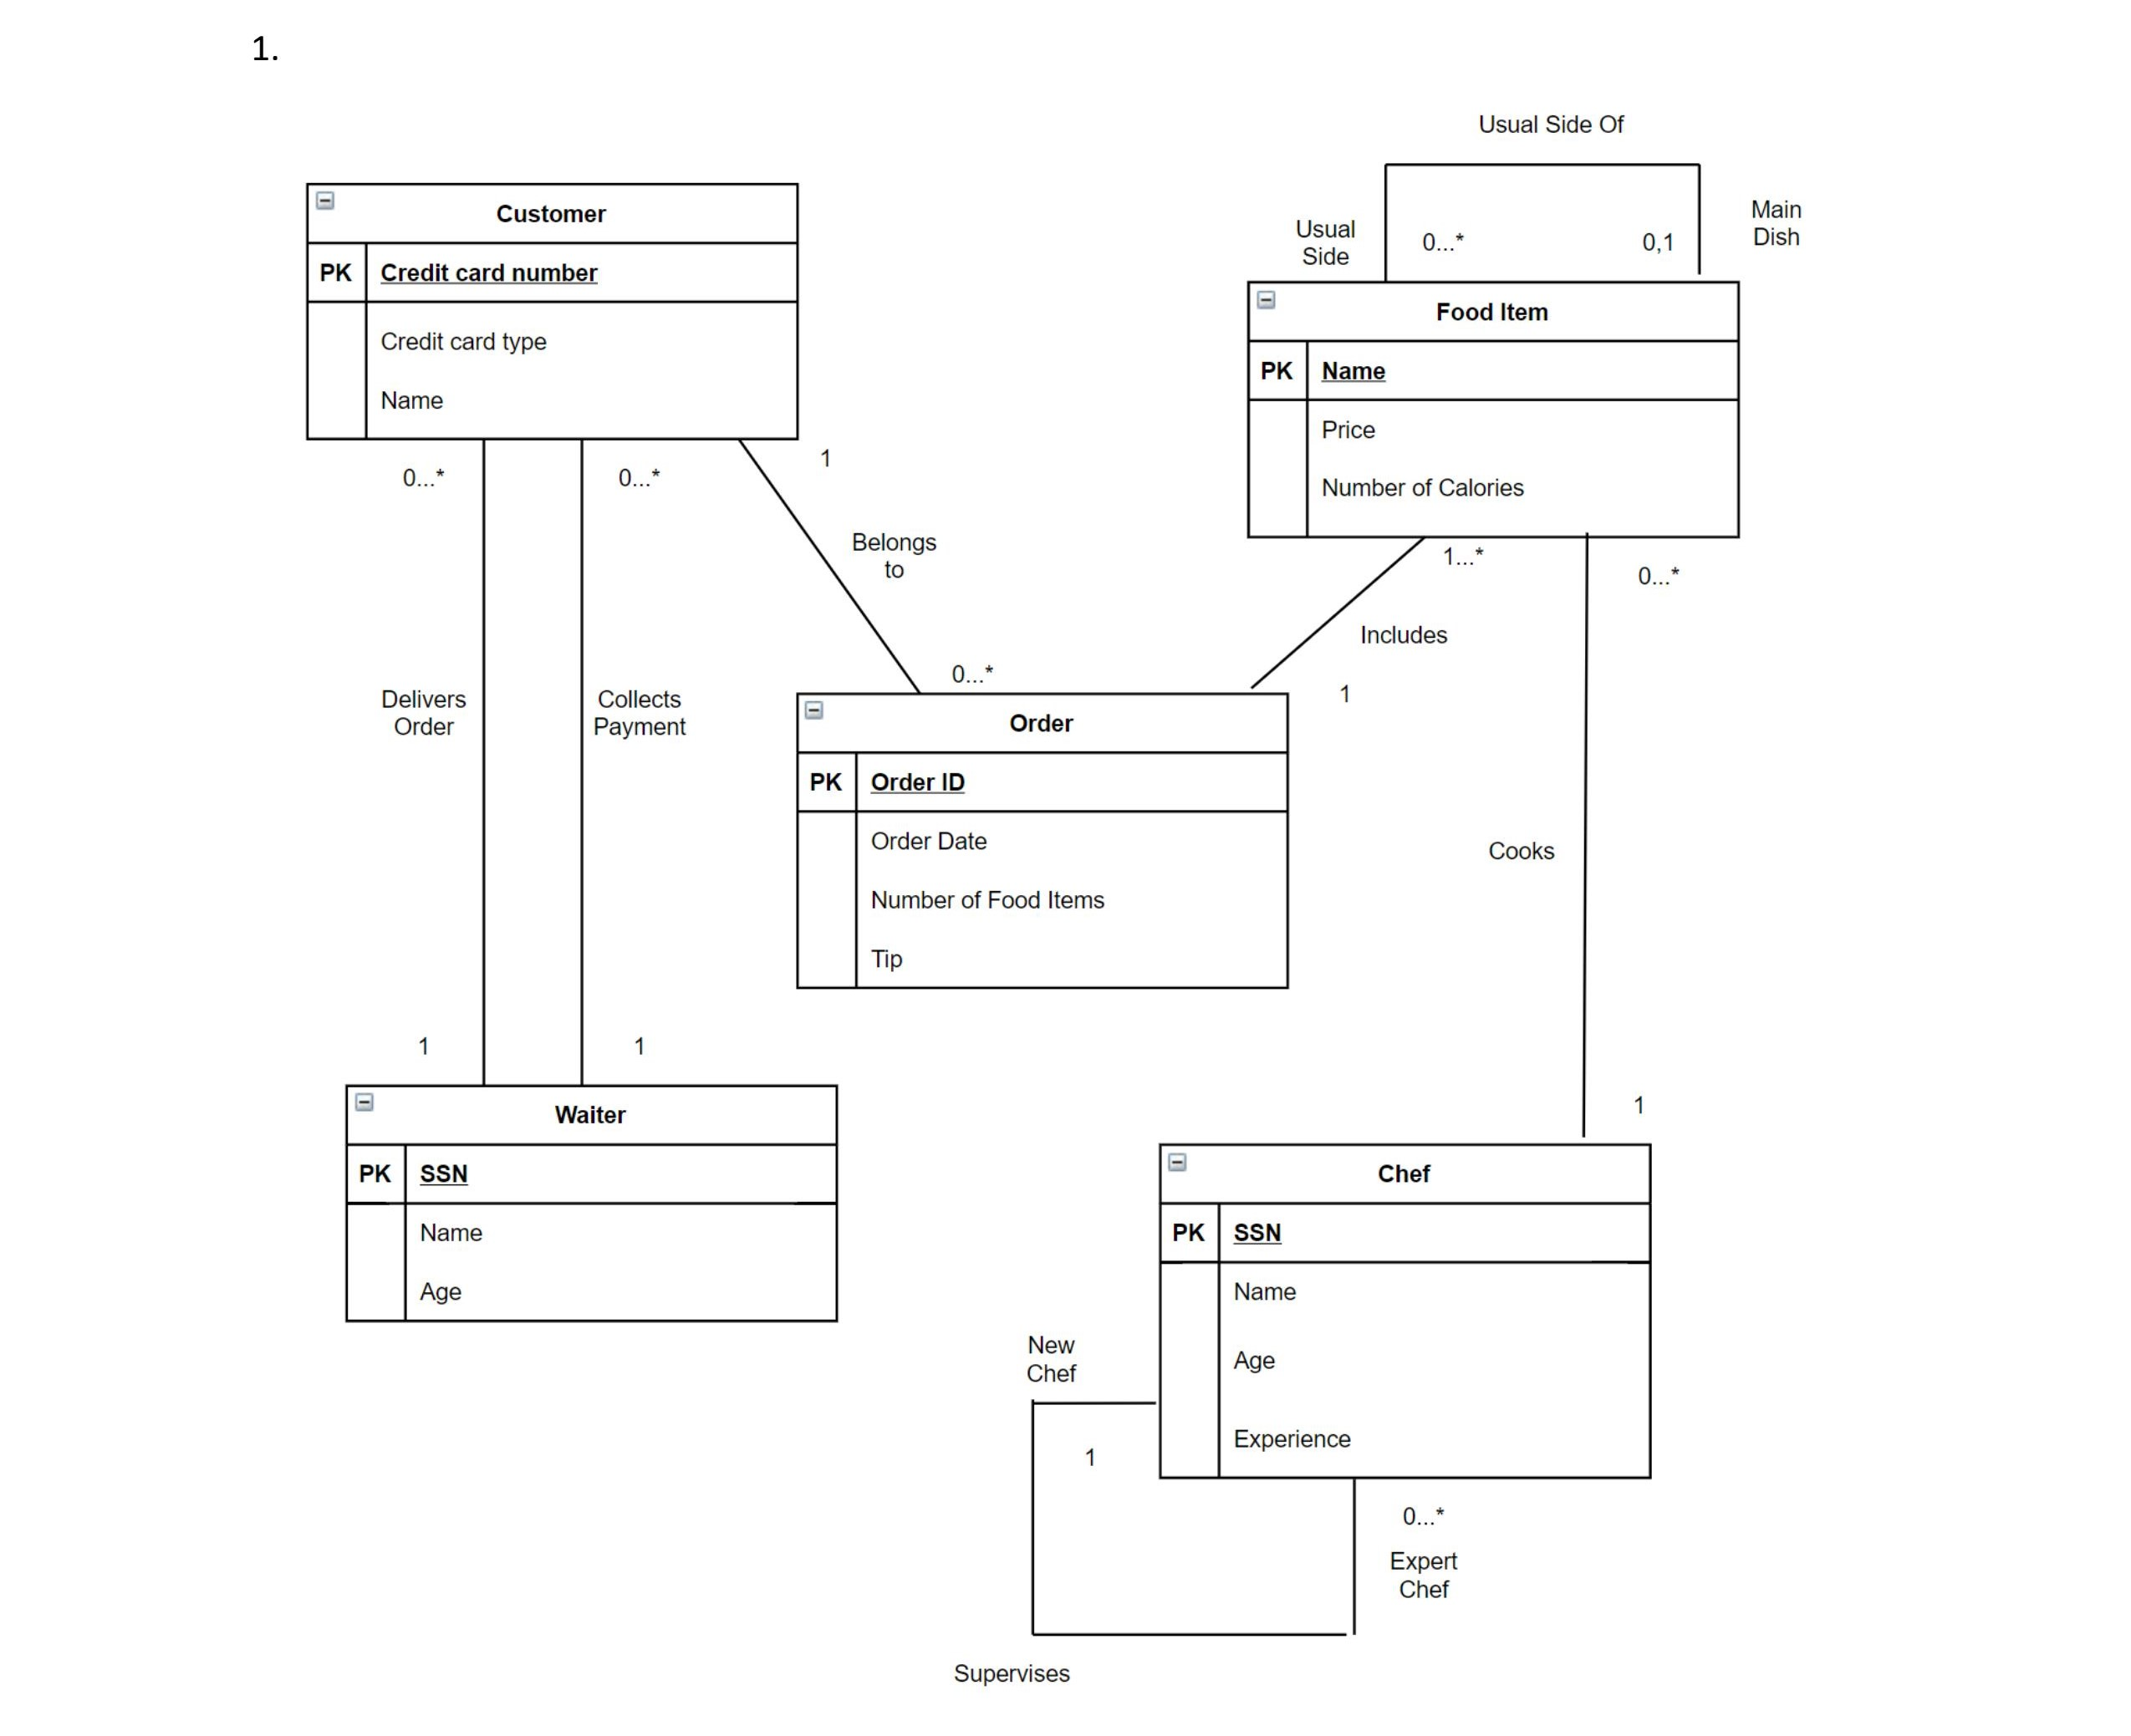Entity: (1145, 1127, 1667, 1501), (775, 680, 1310, 998), (327, 1062, 862, 1350), (287, 172, 816, 455), (1244, 274, 1754, 552)
